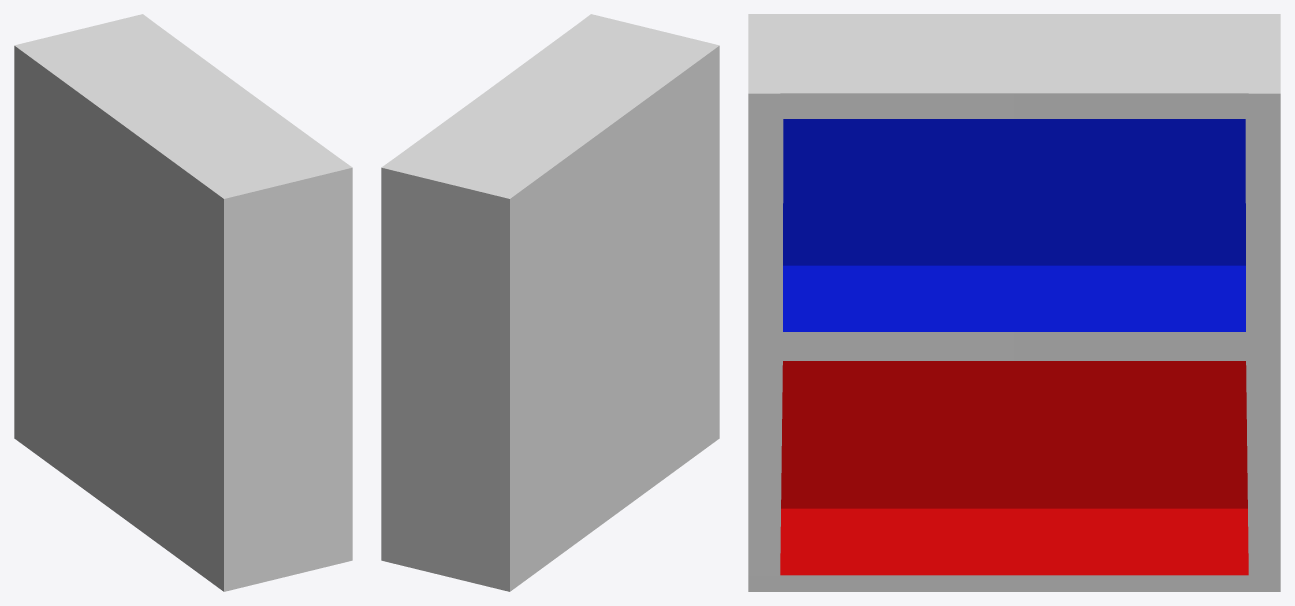
Rendered from estante2.fbx.
3 renders of one model, left to right at view 1: azimuth 30°, elevation 25°; view 2: azimuth 150°, elevation 25°; view 3: azimuth 270°, elevation 25°, orthographic. The views are drawn at different scales.
Visible parts, largest first — view 1: Cube; view 2: Cube; view 3: Cube.
Boxes of the visible parts, x1,y1,x2,y2 form: Cube: (14,14,352,591); Cube: (381,14,719,591); Cube: (748,14,1280,591).
Bounding box in the file's own units: 200 × 583 × 565.
